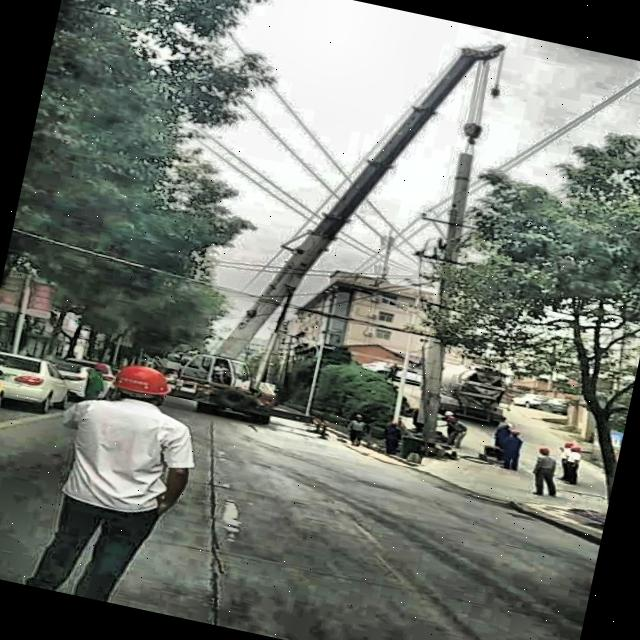helmet: (107, 354, 179, 406)
